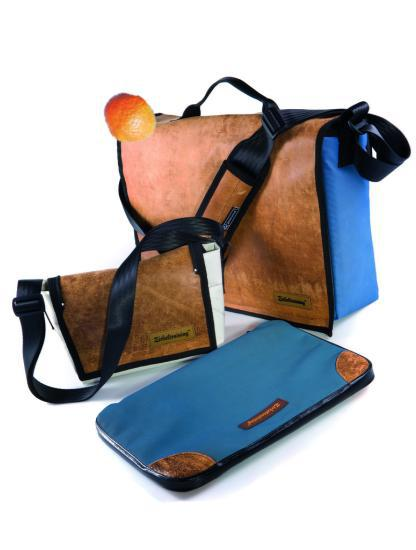Mandarine: (101, 90, 158, 147)
